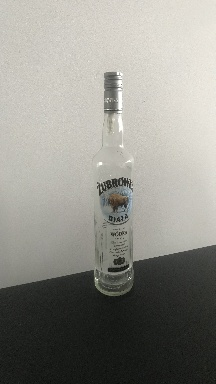butelka: (90, 68, 135, 299)
